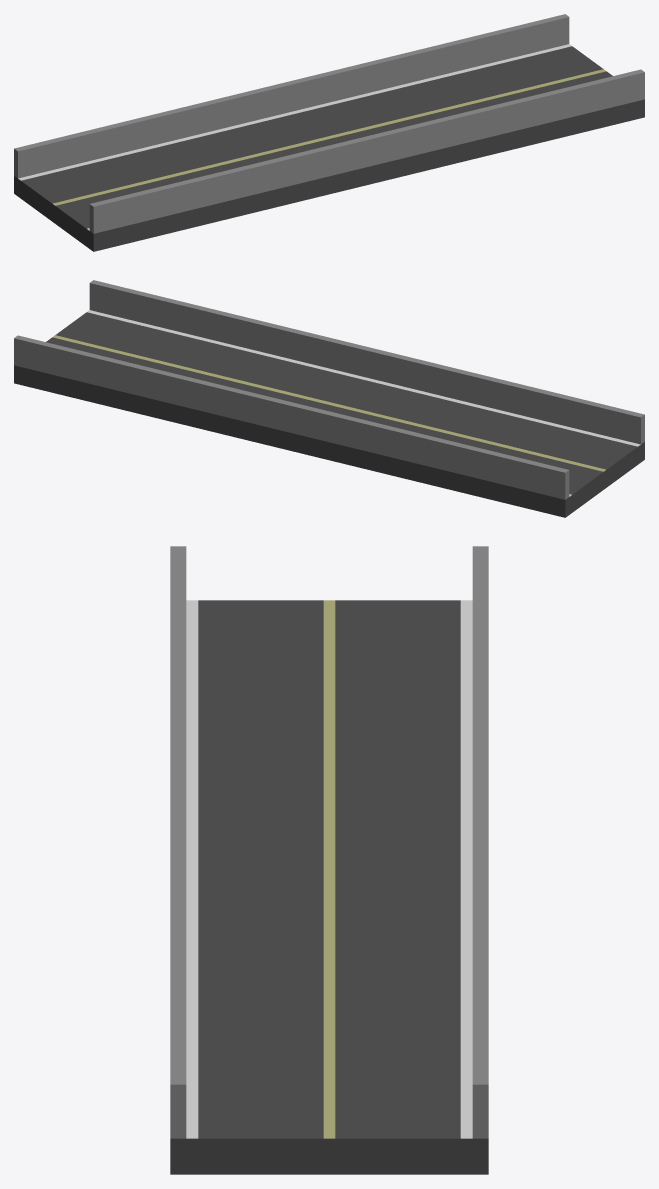
File: straight-guarded.glb
The picture shows the model from 3 angles, top to bottom: view 1: azimuth 30°, elevation 25°; view 2: azimuth 150°, elevation 25°; view 3: azimuth 270°, elevation 25°; orthographic projection. The views are drawn at different scales.
Visible parts, largest first — view 1: Bridge C; view 2: Bridge C; view 3: Bridge C.
Part boxes in pixels (<box>): Bridge C: <box>14,14,644,251</box>; Bridge C: <box>14,280,644,517</box>; Bridge C: <box>170,546,488,1174</box>.
Size of what is drawn, in the model's own units: 32 by 2.5 by 8.
1 material, 1 textured.
